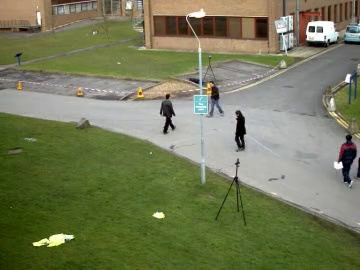person: (231, 110, 249, 152), (159, 94, 176, 134), (207, 80, 223, 115)
